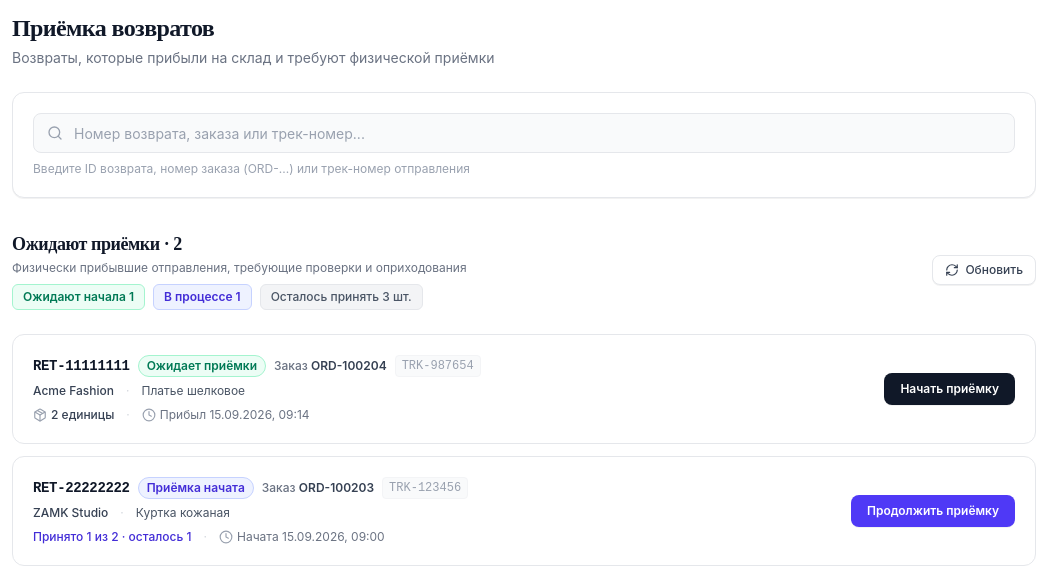
Test: AdminReturnReceivingQueue Component › filters queue items by search query
expect the text "RET-11111111" is shown: met, box [33,356,130,376]
Step 1. Type "ORD-100203" into the field with placeholder "Номер возврата, заказа или трек-номер..." → {"x": 524, "y": 133}, box [33,113,1015,153]
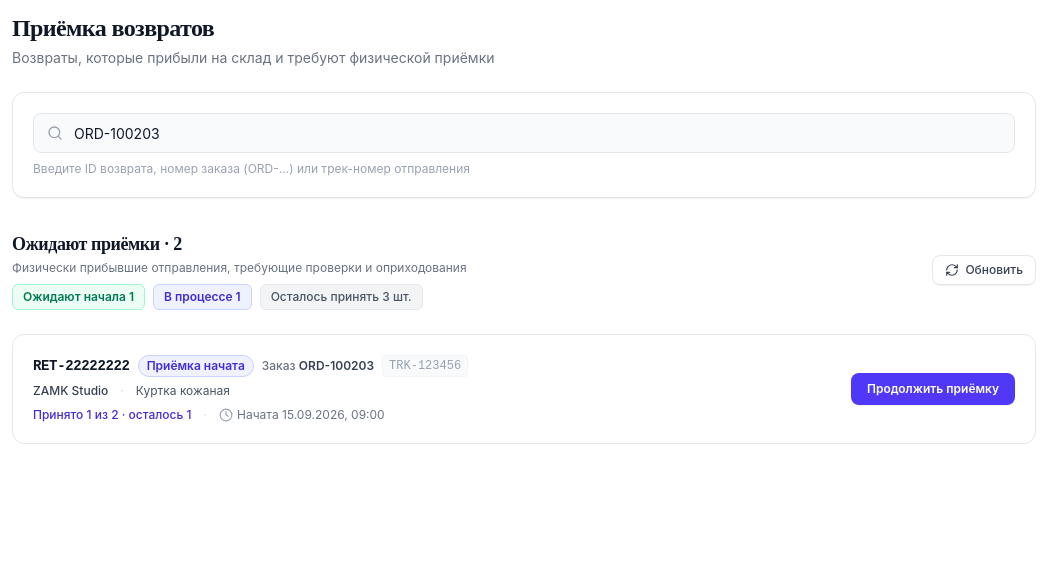
expect the text "RET-22222222" is shown: met, box [33,356,130,376]
expect the text "RET-11111111" is gone: met
